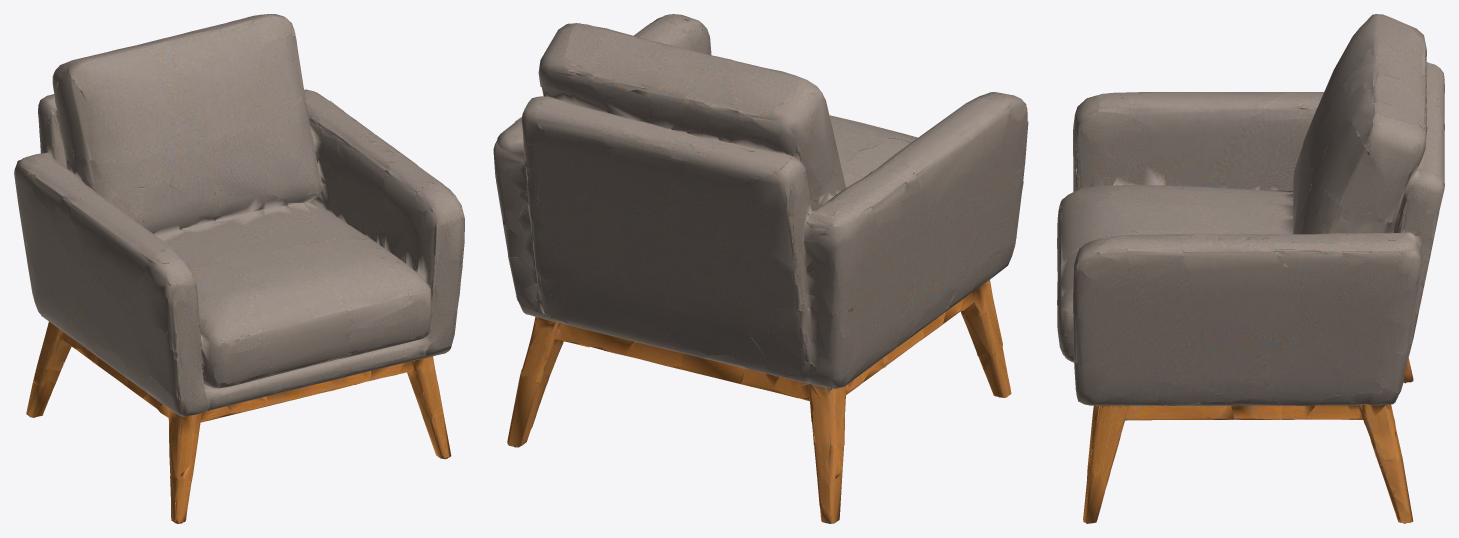
Rendered from armchair-beige.glb.
3 views of the same model, side by side, from view 1: azimuth 30°, elevation 25°; view 2: azimuth 150°, elevation 25°; view 3: azimuth 270°, elevation 25° (orthographic). The views are drawn at different scales.
Visible parts, largest first — view 1: Armchair_Web; view 2: Armchair_Web; view 3: Armchair_Web.
Boxes of the visible parts, x1,y1,x2,y2 form: Armchair_Web: [14, 14, 464, 523]; Armchair_Web: [493, 14, 1028, 523]; Armchair_Web: [1057, 14, 1444, 523].
Bounding box in the file's own units: 0.7567 × 0.8502 × 0.7706.
Materials: 1 (1 with a texture image).
